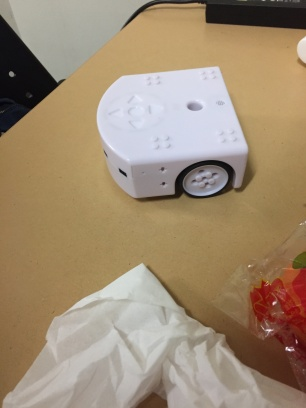thymio: (92, 60, 261, 202)
